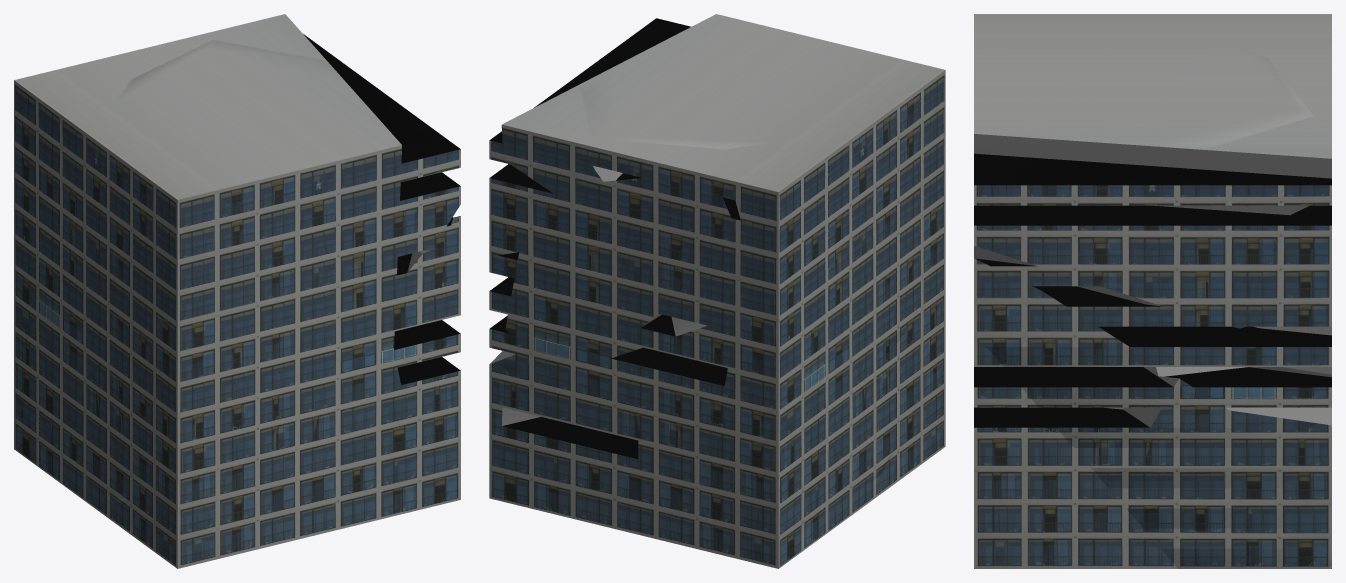
Rendered from destroyed building.obj.
The picture shows the model from 3 angles, left to right: view 1: azimuth 30°, elevation 25°; view 2: azimuth 150°, elevation 25°; view 3: azimuth 270°, elevation 25°; orthographic projection. The views are drawn at different scales.
Visible parts, largest first — view 1: walls walls_0655, walls walls_0869, walls walls_0643, walls walls_0796, walls walls_0624, walls walls_0785, floor floor_01185, walls walls_0782, walls walls_0574, walls walls_0622, floor floor_01206, floor floor_01150 (+115 smaller); view 2: walls walls_0869, walls walls_0782, walls walls_0796, walls walls_0655, walls walls_0785, walls walls_0574, floor floor_01235, floor floor_01185, walls walls_0918, floor floor_0821, walls walls_0763, walls walls_0589 (+118 smaller); view 3: walls walls_0655, walls walls_0869, walls walls_0782, walls walls_0796, walls walls_0785, floor floor_01399, walls walls_0803, floor floor_01446, walls walls_0709, walls walls_0802, floor floor_0776, floor floor_01450 (+78 smaller).
Part boxes in pixels (left/top/right/bottom): walls walls_0655: left=63, top=14, right=401, bottom=209; walls walls_0869: left=55, top=108, right=401, bottom=218; walls walls_0643: left=67, top=17, right=401, bottom=194; walls walls_0796: left=190, top=49, right=363, bottom=132; walls walls_0624: left=44, top=81, right=267, bottom=216; walls walls_0785: left=114, top=39, right=346, bottom=112; floor floor_01185: left=14, top=99, right=339, bottom=236; walls walls_0782: left=25, top=14, right=323, bottom=104; walls walls_0574: left=14, top=234, right=266, bottom=365; walls walls_0622: left=60, top=151, right=274, bottom=252; floor floor_01206: left=14, top=136, right=252, bottom=273; floor floor_01150: left=238, top=412, right=442, bottom=480; walls walls_0869: left=707, top=14, right=945, bottom=162; walls walls_0782: left=501, top=89, right=801, bottom=205; walls walls_0796: left=615, top=40, right=759, bottom=135; walls walls_0655: left=502, top=14, right=855, bottom=183; walls walls_0785: left=547, top=70, right=777, bottom=183; walls walls_0574: left=720, top=221, right=945, bottom=361; floor floor_01235: left=625, top=355, right=786, bottom=414; floor floor_01185: left=735, top=90, right=945, bottom=229; walls walls_0918: left=489, top=234, right=681, bottom=298; floor floor_0821: left=639, top=516, right=813, bottom=568; walls walls_0763: left=489, top=391, right=713, bottom=458; walls walls_0589: left=574, top=191, right=801, bottom=241; walls walls_0655: left=974, top=33, right=1331, bottom=178; walls walls_0869: left=974, top=14, right=1243, bottom=153; walls walls_0782: left=1205, top=14, right=1331, bottom=178; walls walls_0796: left=1032, top=65, right=1297, bottom=164; walls walls_0785: left=1130, top=41, right=1313, bottom=174; floor floor_01399: left=1076, top=205, right=1331, bottom=245; walls walls_0803: left=974, top=488, right=1320, bottom=508; floor floor_01446: left=974, top=367, right=1252, bottom=407; walls walls_0709: left=1014, top=528, right=1331, bottom=548; walls walls_0802: left=999, top=448, right=1331, bottom=467; floor floor_0776: left=974, top=407, right=1295, bottom=447; floor floor_01450: left=974, top=407, right=1285, bottom=447.
Size of what is drawn, in the model's own units: 7.59 by 9.45 by 7.59.
